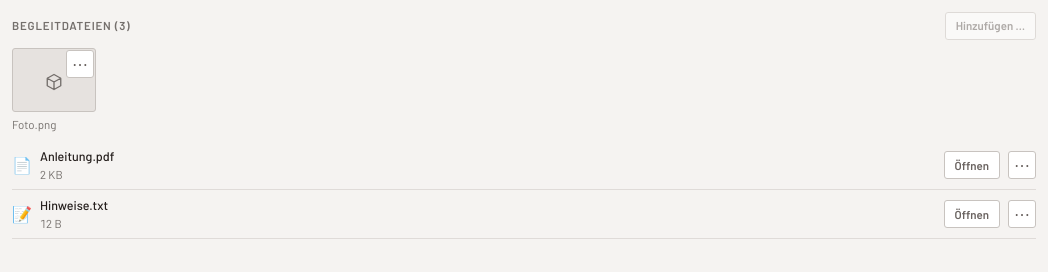
Test: CompanionSection › locks add and remove during an import but still allows opening
expect the text "Anleitung.pdf" is shown: met, box [40,148,114,164]
expect the button "Hinzufügen …" is disabled: met, box [945,12,1036,40]
Click the button named "Weitere Aktionen für Anleitung.pdf" at (1022, 165), box [1008,151,1036,179]
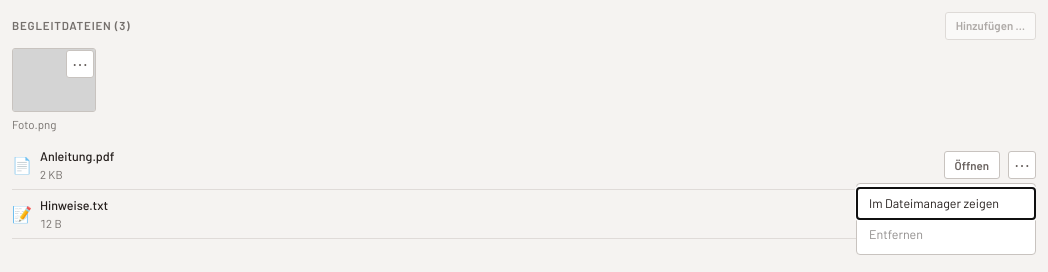
expect the button with aria-label "Anleitung.pdf öffnen" is enabled: met, box [944,151,1000,179]
expect the menu item "Entfernen" is disabled: met, box [857,219,1035,250]
